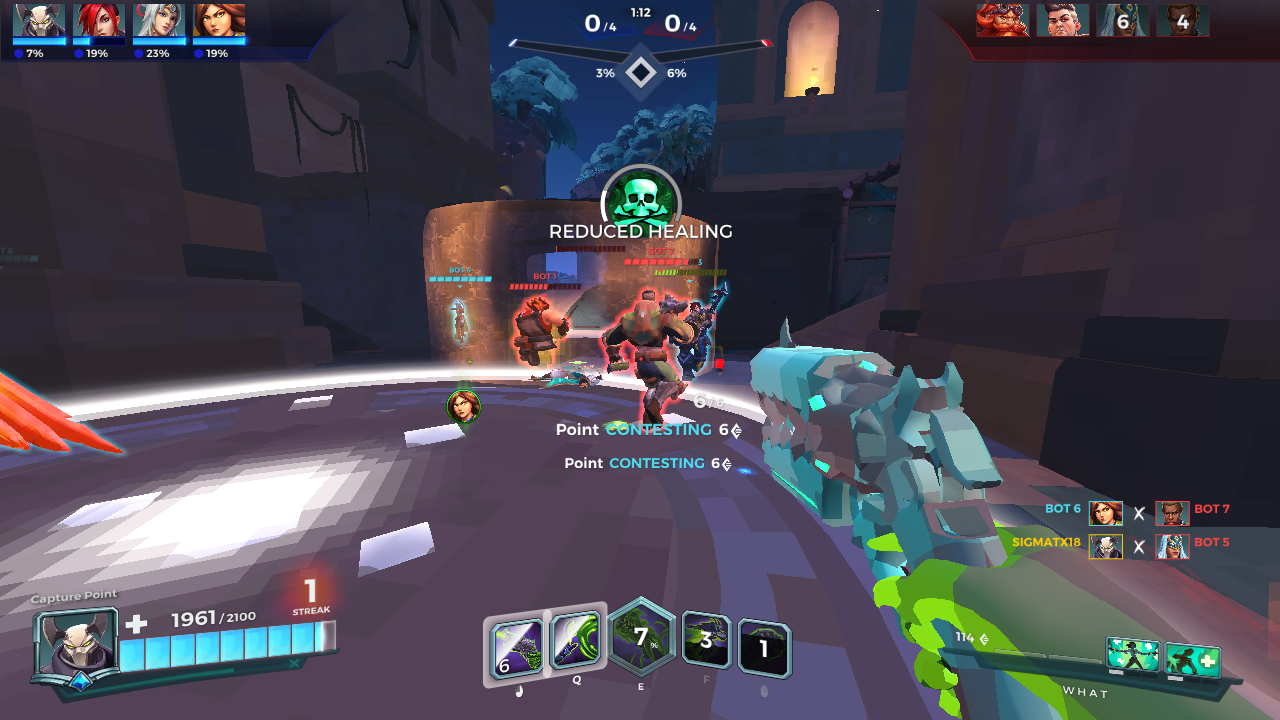model: (614, 287, 680, 417), (507, 293, 565, 364)
